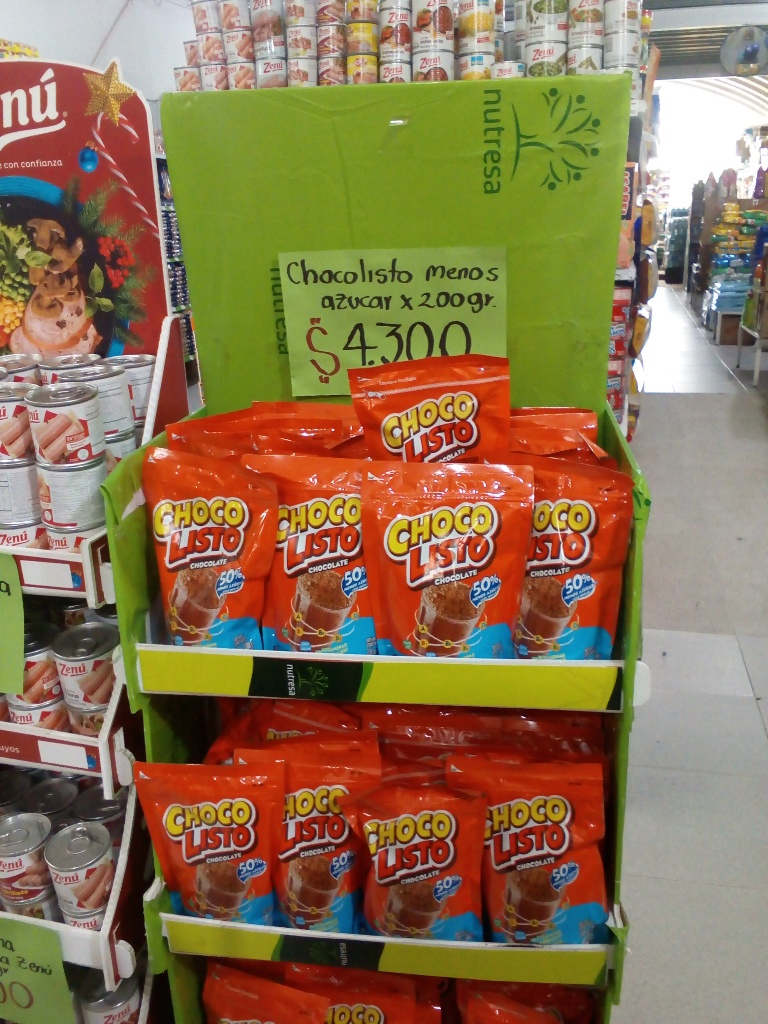COL0170104DYP20000: (145, 451, 264, 651)
